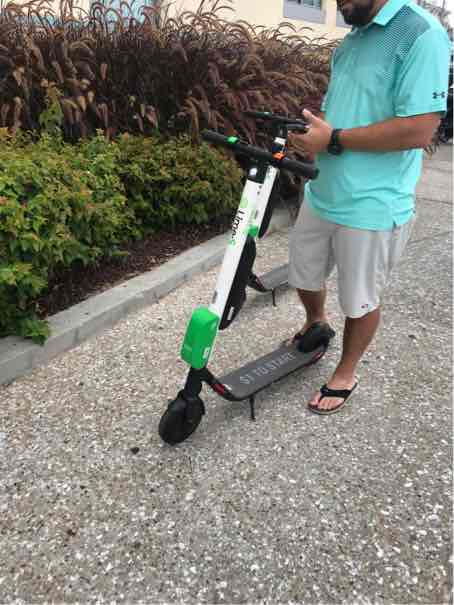scooter: (146, 127, 356, 458)
